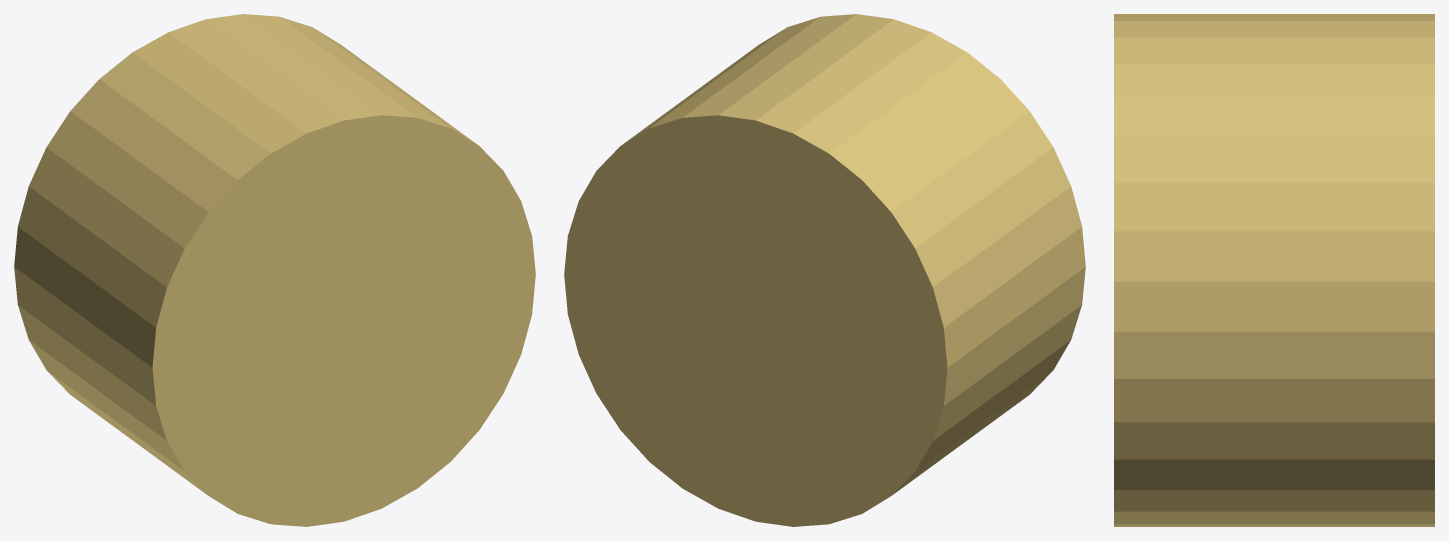
File: hay_bale.glb
The picture shows the model from 3 angles, left to right: view 1: azimuth 30°, elevation 25°; view 2: azimuth 150°, elevation 25°; view 3: azimuth 270°, elevation 25°; orthographic projection. The views are drawn at different scales.
Visible parts, largest first — view 1: HayBale; view 2: HayBale; view 3: HayBale.
Boxes of the visible parts, x1,y1,x2,y2 form: HayBale: [14, 14, 535, 526]; HayBale: [564, 14, 1085, 526]; HayBale: [1114, 14, 1434, 526].
Size of the model in its own units: 0.8 by 0.8 by 0.5.
